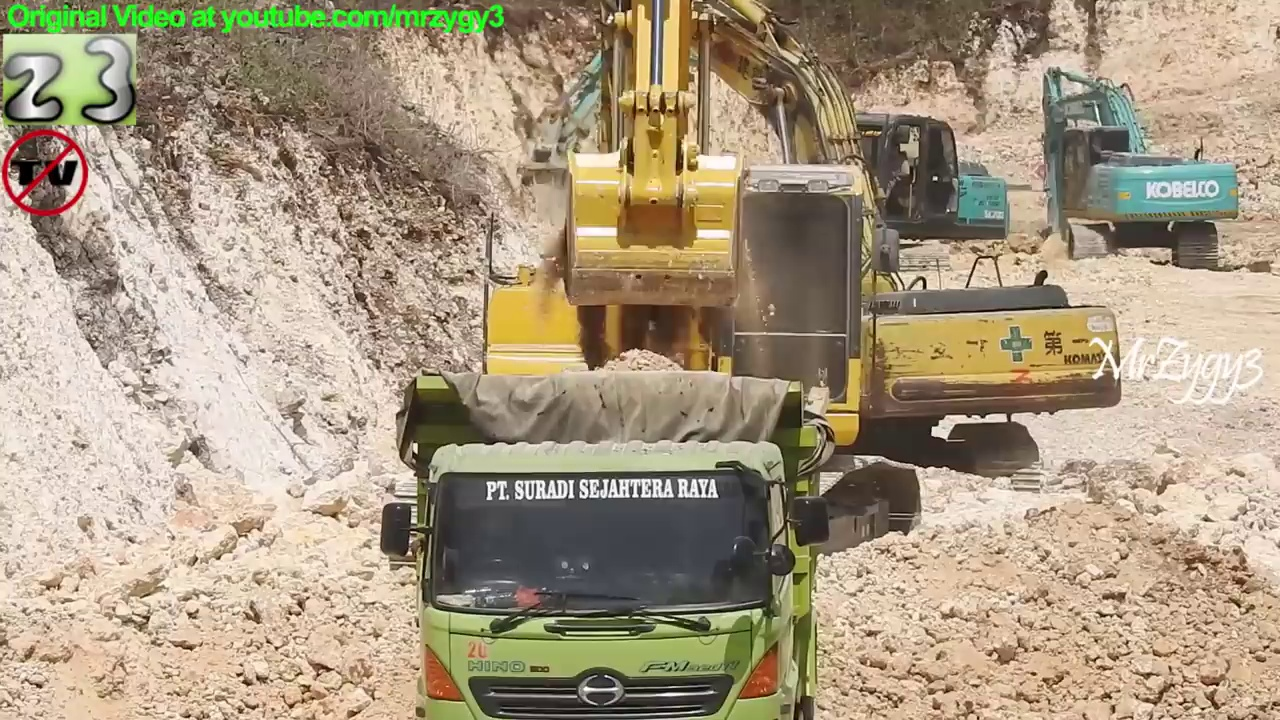excavator: (369, 1, 933, 588), (560, 1, 1133, 510), (511, 1, 1017, 283), (1031, 59, 1247, 282)
truck: (372, 364, 843, 720)
